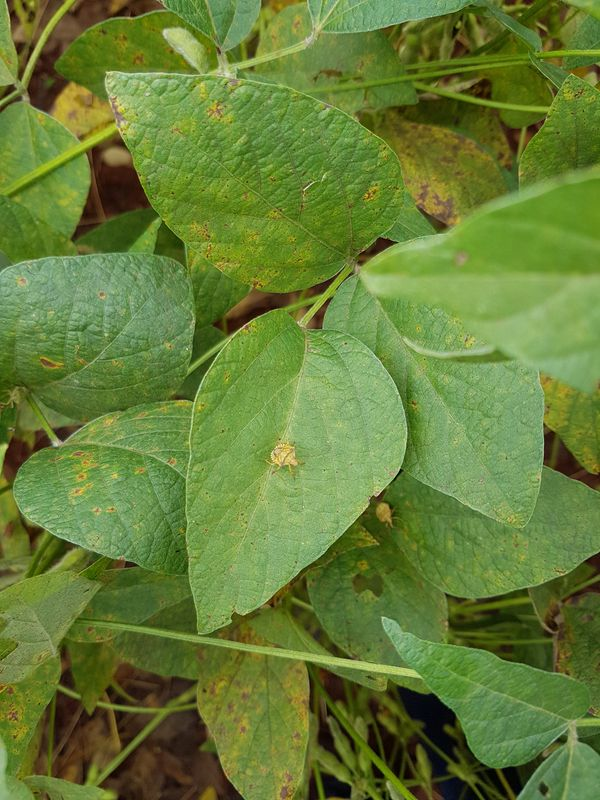Euschistus_heros_ninfa: (256, 430, 317, 485), (359, 487, 407, 540)
